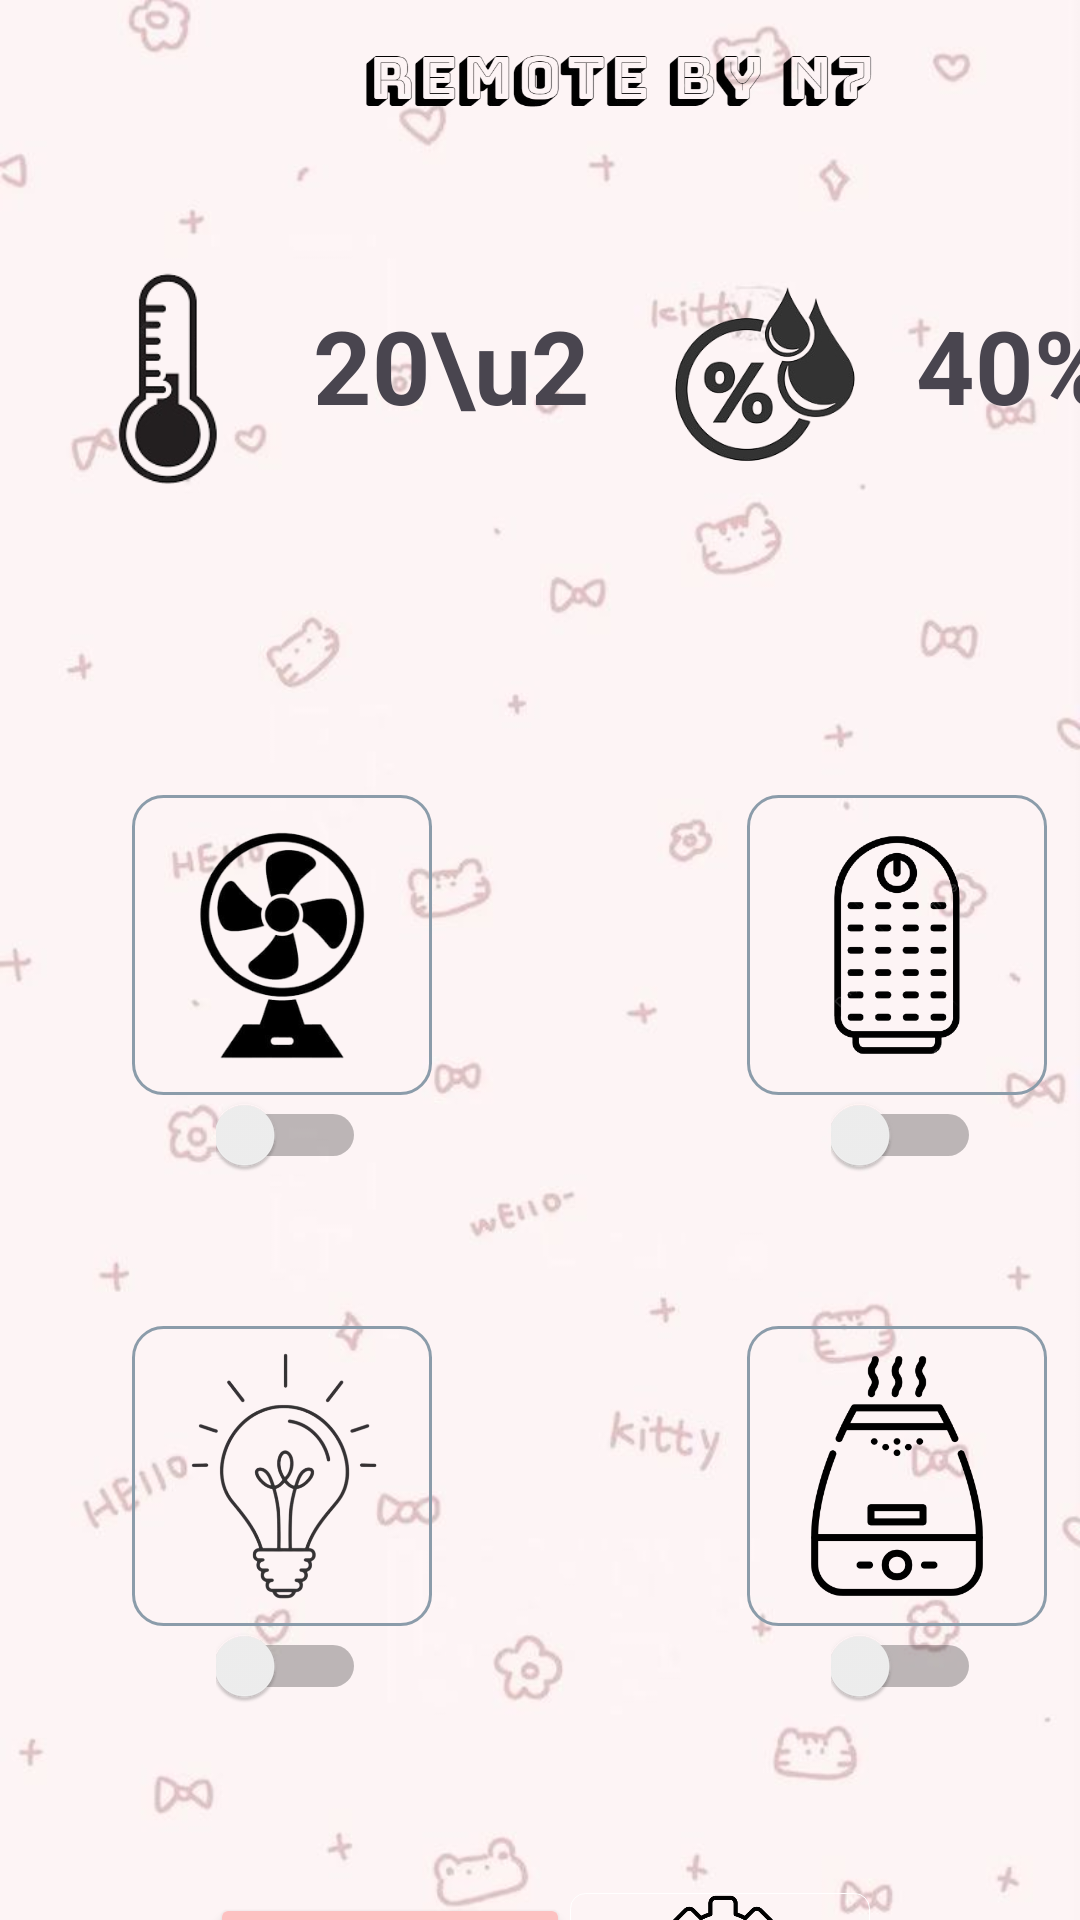

Icons on this 1080w x 1920h Android screen, each with its box as (x1, y1, x2, y2):
dehumioff: (834, 802, 1020, 1054)
doam: (652, 287, 865, 489)
humidifier: (811, 1356, 983, 1596)
lightoff: (139, 1354, 377, 1599)
nhietdo: (72, 274, 266, 484)
quatoff: (172, 833, 364, 1058)
